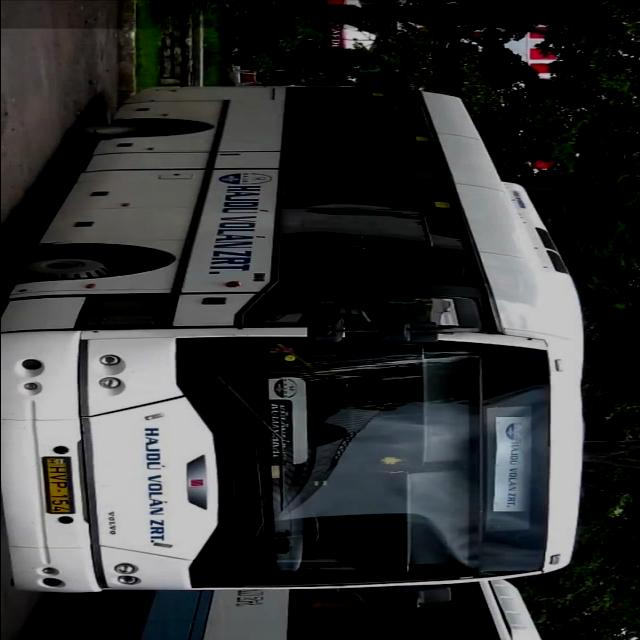bus: (1, 82, 591, 601)
